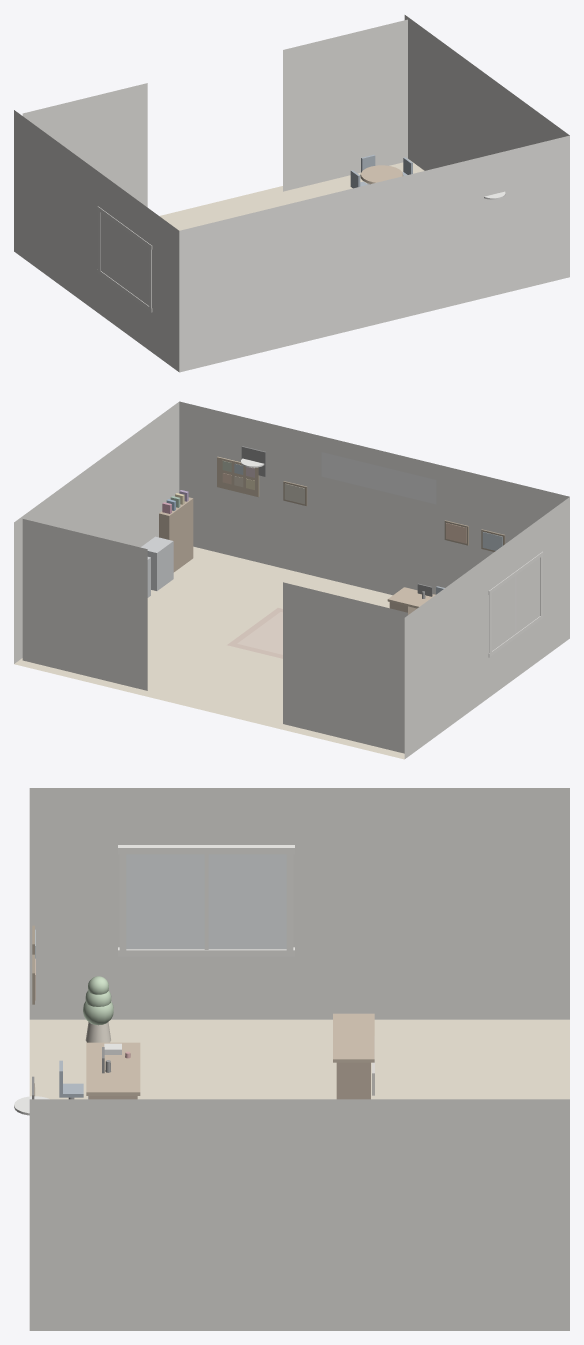
The picture shows the model from 3 angles, top to bottom: view 1: azimuth 30°, elevation 25°; view 2: azimuth 150°, elevation 25°; view 3: azimuth 270°, elevation 25°; orthographic projection. The views are drawn at different scales.
Parts seen in each view (by area): view 1: object 4, object 5, object 8, object 6, object 7, object 1, meeting_table; view 2: object 4, object 5, object 1, object 8, object 7, object 6, object 9, shelving, filing_cabinet_2, object 3, object 104, object 2 (+1 smaller); view 3: object 6, object 5, object 1, window (×5), reception_counter (×2), manager_desk.
Part boxes in pixels (left/top/right/bottom): object 4: left=179, top=135, right=569, bottom=372; object 5: left=14, top=110, right=179, bottom=371; object 8: left=283, top=19, right=407, bottom=191; object 6: left=404, top=15, right=569, bottom=170; object 7: left=22, top=83, right=147, bottom=207; object 1: left=159, top=159, right=424, bottom=230; meeting_table: left=360, top=165, right=403, bottom=183; object 4: left=179, top=401, right=569, bottom=595; object 5: left=404, top=497, right=569, bottom=758; object 1: left=14, top=546, right=404, bottom=759; object 8: left=22, top=519, right=147, bottom=690; object 7: left=283, top=582, right=407, bottom=753; object 6: left=14, top=402, right=179, bottom=663; object 9: left=321, top=452, right=436, bottom=504; shelving: left=159, top=497, right=193, bottom=572; filing_cabinet_2: left=140, top=536, right=173, bottom=590; object 3: left=237, top=612, right=282, bottom=654; object 104: left=217, top=456, right=259, bottom=497; object 2: left=227, top=608, right=282, bottom=658; object 6: left=29, top=1099, right=569, bottom=1330; object 5: left=29, top=788, right=569, bottom=1019; object 1: left=29, top=1019, right=569, bottom=1099; window (×5): left=118, top=845, right=294, bottom=956; reception_counter (×2): left=333, top=1013, right=374, bottom=1099; manager_desk: left=86, top=1042, right=140, bottom=1095.
Size of the model in its own units: 15.02 by 5.2 by 11.32.
